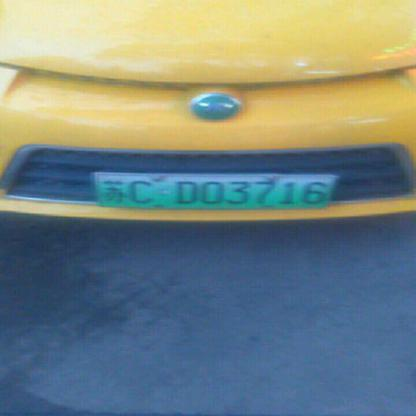lp: (98, 171, 335, 208)
